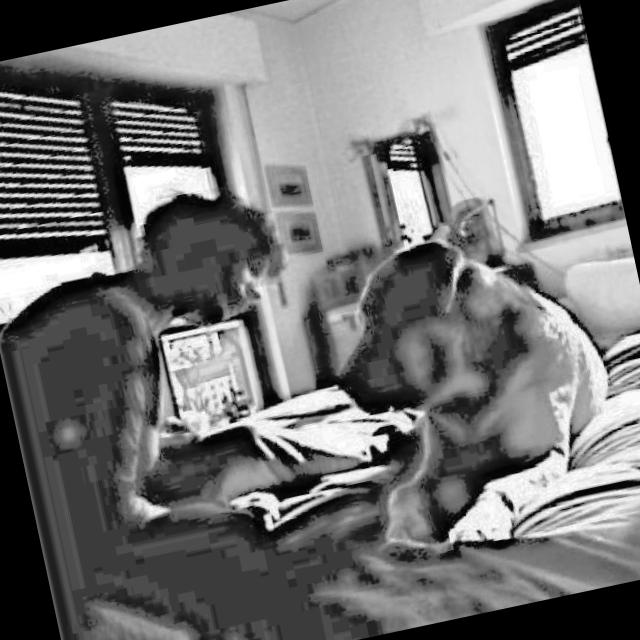Dog: (313, 199, 640, 558)
